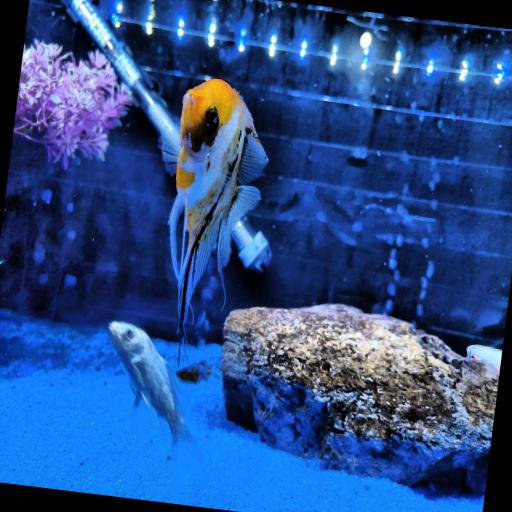Fish: (168, 79, 267, 335), (107, 321, 203, 492), (107, 321, 184, 438)
